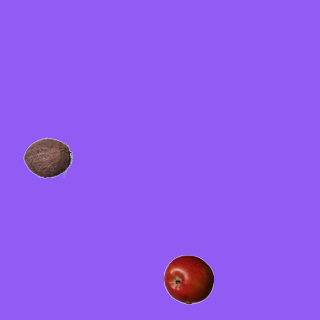Apple Braeburn: (163, 254, 213, 304)
Cocos: (22, 132, 72, 182)
